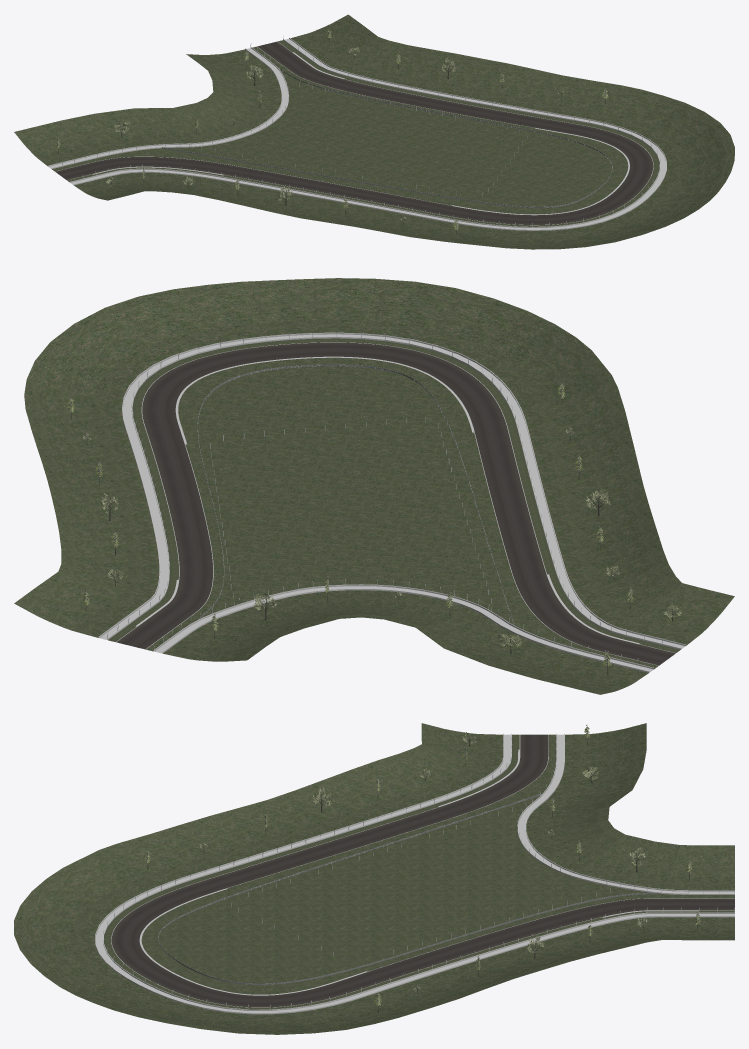
3 renders of one model, top to bottom at view 1: azimuth 30°, elevation 25°; view 2: azimuth 150°, elevation 25°; view 3: azimuth 270°, elevation 25°, orthographic. The views are drawn at different scales.
Parts seen in each view (by area): view 1: Grass, Road, Track, Wirefence, Trees; view 2: Grass, Road, Track, Trees, Wirefence; view 3: Grass, Road, Track, Trees, Wirefence.
Part boxes in pixels (x1,y1,x2,y2): Grass: [14, 14, 734, 249]; Road: [55, 41, 653, 224]; Track: [48, 36, 666, 230]; Wirefence: [162, 69, 612, 207]; Trees: [55, 27, 608, 234]; Grass: [14, 278, 734, 694]; Road: [116, 342, 675, 665]; Track: [98, 332, 685, 672]; Trees: [67, 382, 682, 675]; Wirefence: [197, 364, 514, 624]; Grass: [14, 723, 734, 1034]; Road: [111, 734, 734, 1007]; Track: [95, 733, 734, 1014]; Trees: [144, 725, 700, 1012]; Wirefence: [158, 794, 660, 984].
Size of the model in its own units: 46272 by 1923 by 44889.
